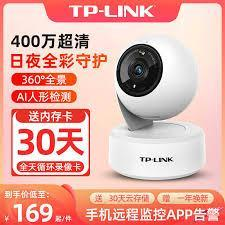maru: (114, 36, 199, 122)
